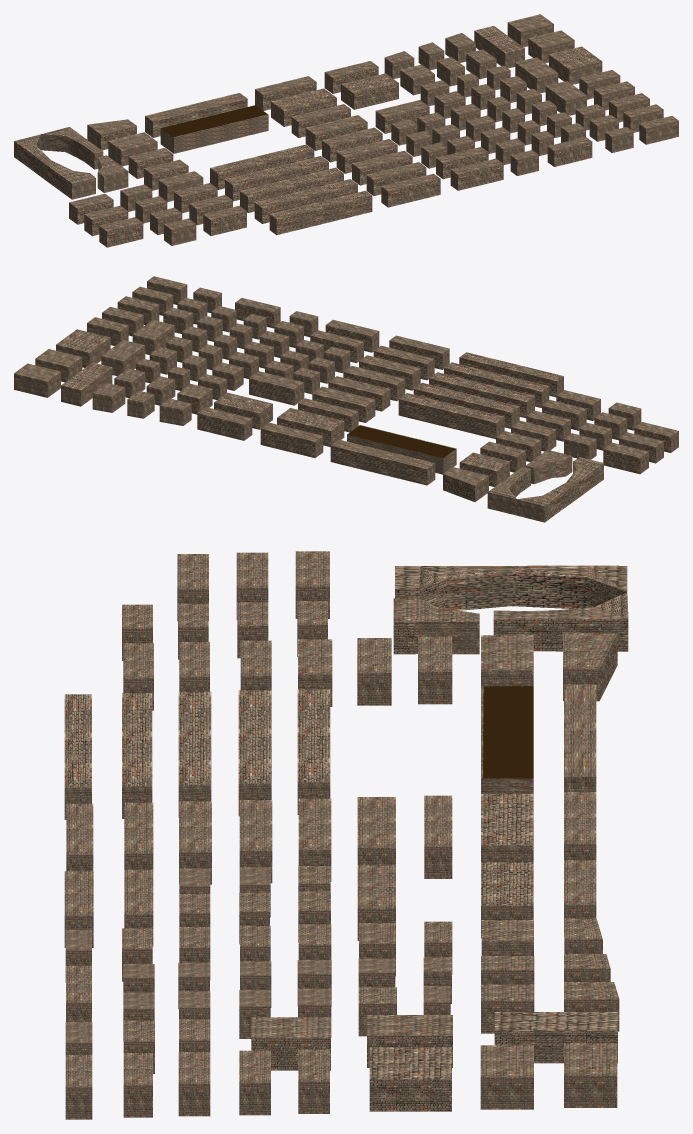
File: Arkham Map v3.fbx
3 renders of one model, top to bottom at view 1: azimuth 30°, elevation 25°; view 2: azimuth 150°, elevation 25°; view 3: azimuth 270°, elevation 25°, orthographic. The views are drawn at different scales.
Parts seen in each view (by area): view 1: polySurface170; view 2: polySurface170; view 3: polySurface170.
Boxes of the visible parts, box(x1,y1,x2,y2) form: polySurface170: box(14, 14, 678, 247); polySurface170: box(14, 276, 678, 522); polySurface170: box(64, 551, 628, 1119).
Bounding box in the file's own units: 35.33 × 1.35 × 15.86.
